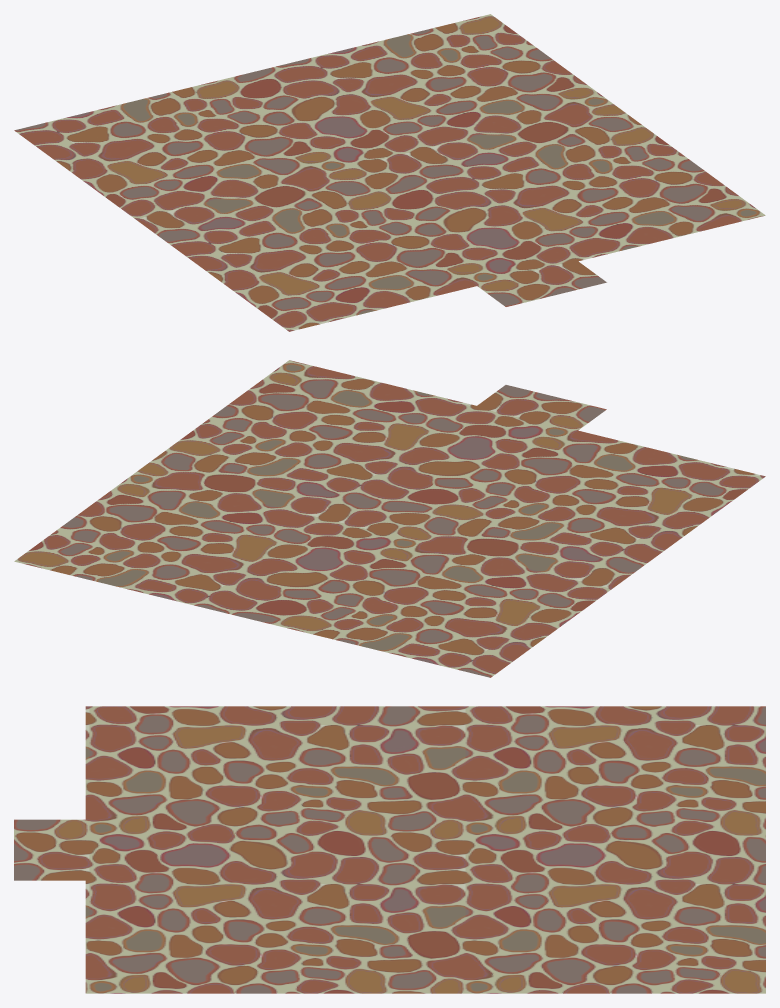
File: Floor04_d01.FBX
3 views of the same model, one above another, from view 1: azimuth 30°, elevation 25°; view 2: azimuth 150°, elevation 25°; view 3: azimuth 270°, elevation 25° (orthographic). The views are drawn at different scales.
Parts seen in each view (by area): view 1: Floor04_d01; view 2: Floor04_d01; view 3: Floor04_d01.
Part boxes in pixels (x1,y1,x2,y2): Floor04_d01: [14, 14, 765, 331]; Floor04_d01: [14, 360, 765, 677]; Floor04_d01: [14, 706, 765, 993].
Bounding box in the file's own units: 900 × 0.000446 × 995.
1 material, 1 textured.
